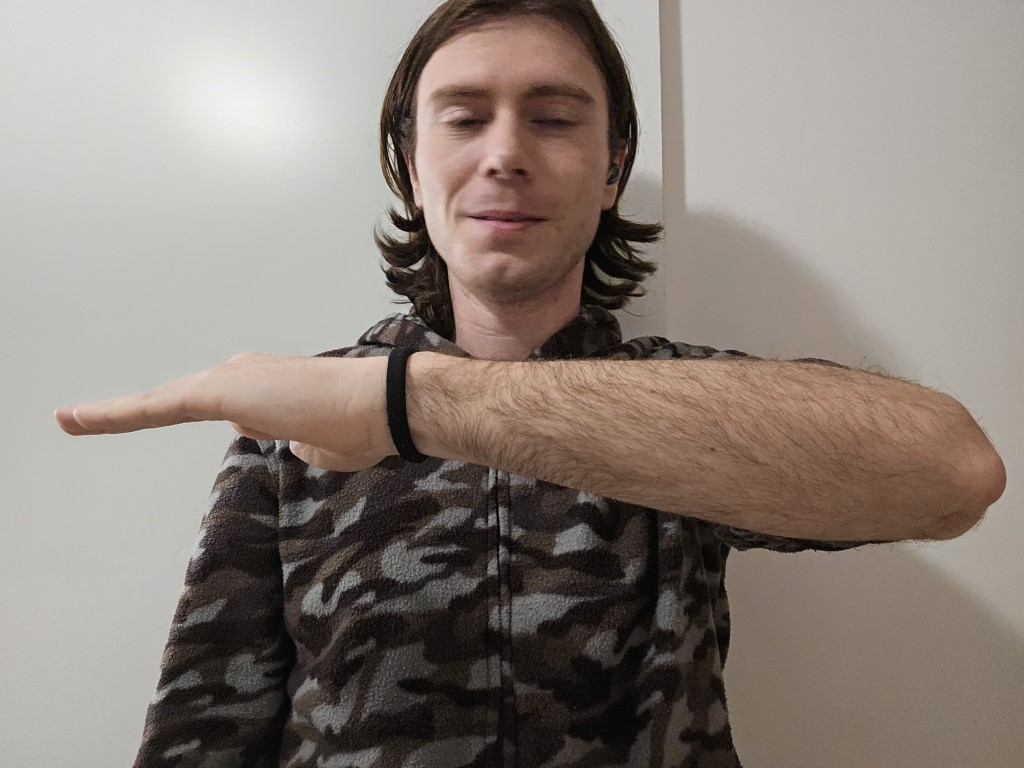space: (32, 335, 1003, 567)
